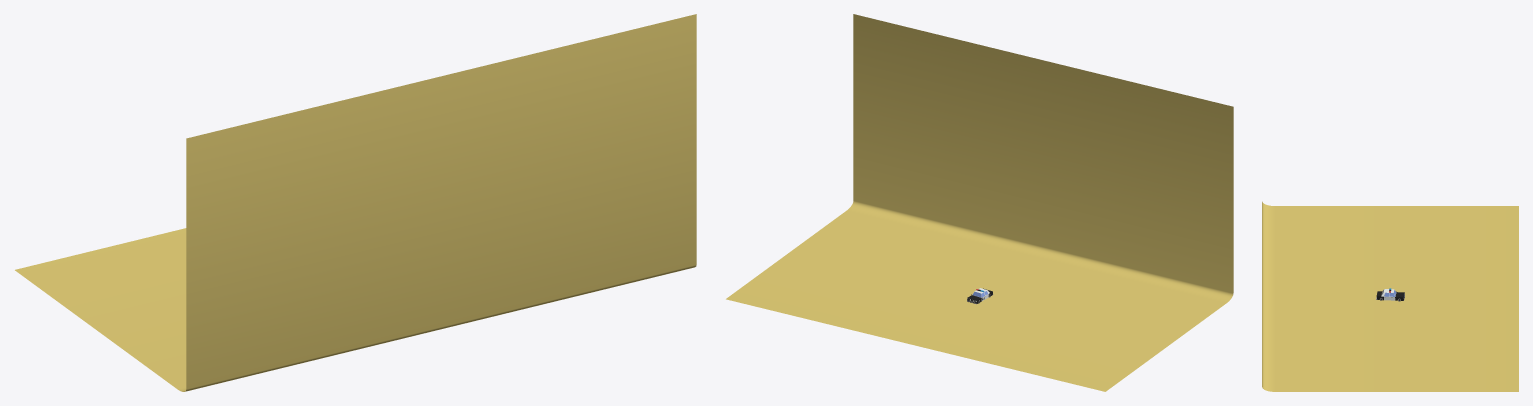
The model's file is uploads_files_4301456_policecar.obj.fbx.
3 renders of one model, left to right at view 1: azimuth 30°, elevation 25°; view 2: azimuth 150°, elevation 25°; view 3: azimuth 270°, elevation 25°, orthographic. The views are drawn at different scales.
Visible parts, largest first — view 1: Plane.002_Plane; view 2: Plane.002_Plane; view 3: Plane.002_Plane, Cube.002.
Part boxes in pixels (bbox=[...]): Plane.002_Plane: bbox=[15, 14, 696, 391]; Plane.002_Plane: bbox=[726, 14, 1233, 391]; Plane.002_Plane: bbox=[1262, 201, 1518, 391]; Cube.002: bbox=[1376, 288, 1404, 301].
Size of the model in its own units: 13775 by 6636 by 8037.
